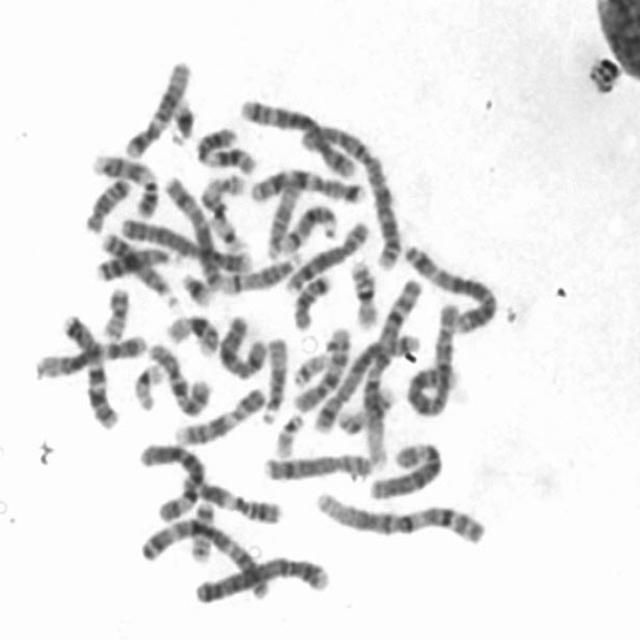A1: (356, 270, 425, 474), (309, 482, 490, 547)
A2: (296, 115, 405, 273), (402, 296, 464, 418)
A3: (133, 508, 275, 603), (398, 236, 502, 335)
B4: (114, 210, 256, 275), (189, 548, 332, 605)
B5: (307, 325, 424, 434), (233, 88, 360, 180)
C10: (287, 319, 353, 414), (143, 334, 214, 419)
C11: (176, 467, 286, 525), (190, 119, 259, 176)
C12: (118, 50, 194, 161), (29, 326, 150, 380)
C6: (132, 434, 209, 524), (364, 433, 447, 502)
C7: (56, 305, 121, 431), (244, 162, 370, 205)
C8: (278, 213, 372, 295), (257, 444, 377, 484)
C9: (169, 378, 270, 446), (84, 144, 162, 217)
D13: (94, 224, 182, 310), (90, 240, 178, 283)
D14: (214, 244, 304, 296), (276, 197, 341, 253)
D15: (262, 164, 306, 262), (255, 328, 291, 426)
E16: (160, 306, 222, 358), (344, 252, 382, 330)
E17: (332, 378, 398, 435), (200, 173, 249, 215)
E18: (79, 169, 133, 234), (286, 265, 335, 330)
F19: (127, 355, 167, 412), (195, 210, 248, 253)
F20: (96, 278, 132, 342), (185, 494, 217, 563)
G21: (164, 90, 198, 145), (174, 264, 216, 308)
G22: (286, 341, 332, 389), (268, 405, 308, 459)
X: (157, 168, 225, 292), (212, 306, 271, 381)
